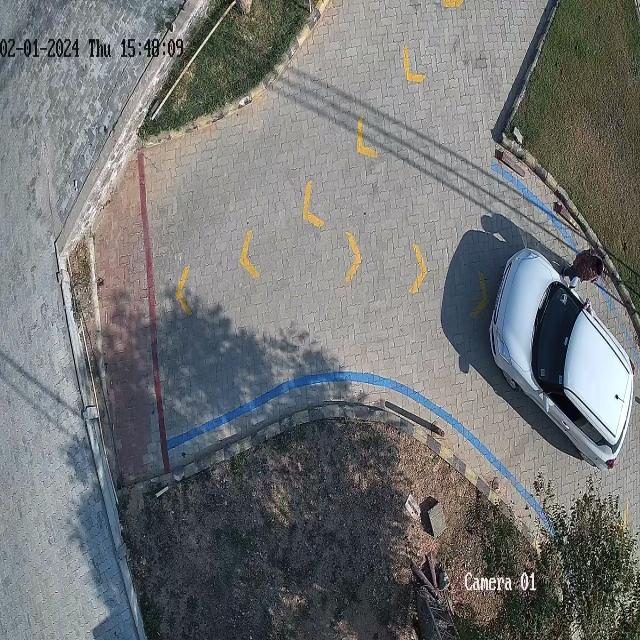car: (490, 249, 634, 469)
